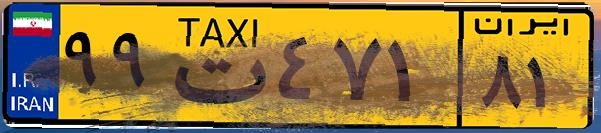1: (385, 28, 445, 110), (525, 38, 570, 115)
4: (270, 28, 330, 110)
7: (330, 28, 385, 110)
8: (475, 38, 525, 113)
9: (57, 26, 110, 100), (110, 28, 158, 98)
ت: (158, 12, 270, 120)
